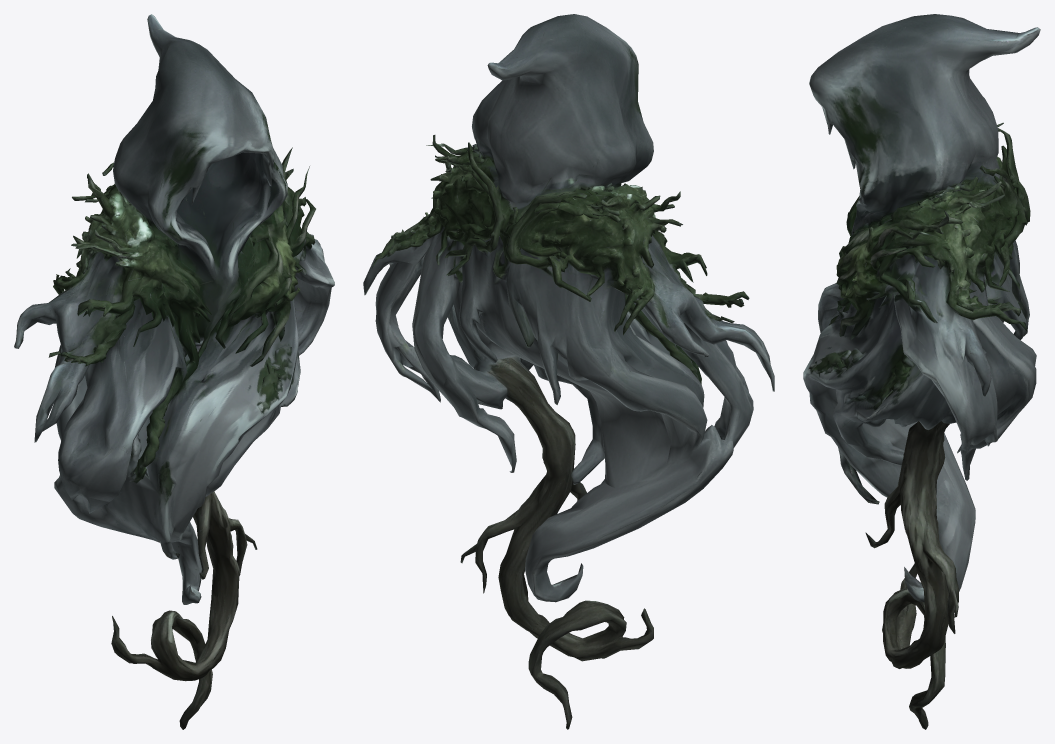
File: eco_radicata.glb
3 renders of one model, left to right at view 1: azimuth 30°, elevation 25°; view 2: azimuth 150°, elevation 25°; view 3: azimuth 270°, elevation 25°, orthographic. The views are drawn at different scales.
Parts seen in each view (by area): view 1: mesh_node; view 2: mesh_node; view 3: mesh_node.
Boxes of the visible parts, x1=… form: mesh_node: x1=14, y1=14, x2=334, y2=729; mesh_node: x1=363, y1=14, x2=774, y2=729; mesh_node: x1=803, y1=14, x2=1040, y2=729.
Bounding box in the file's own units: 1 × 1.91 × 0.5708.
Materials: 1 (1 with a texture image).
